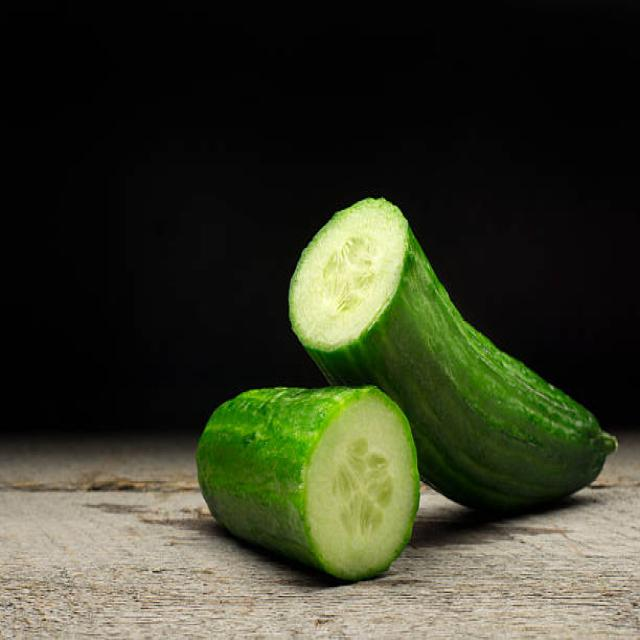cucumber: (291, 199, 603, 510)
